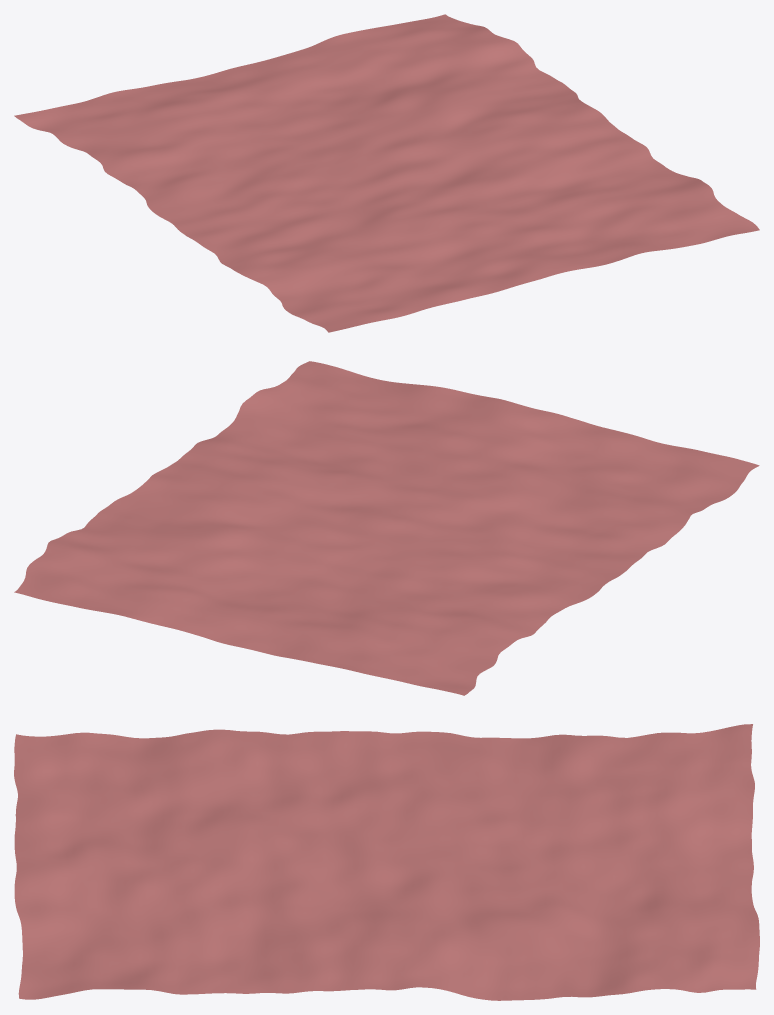
File: dimian_1.FBX
The picture shows the model from 3 angles, top to bottom: view 1: azimuth 30°, elevation 25°; view 2: azimuth 150°, elevation 25°; view 3: azimuth 270°, elevation 25°; orthographic projection. The views are drawn at different scales.
Parts seen in each view (by area): view 1: Plane945; view 2: Plane945; view 3: Plane945.
Part boxes in pixels (x1,y1,x2,y2): Plane945: (14, 14, 759, 332); Plane945: (14, 361, 759, 695); Plane945: (14, 724, 759, 1000).
Bounding box in the file's own units: 2284 × 42.26 × 2659.
